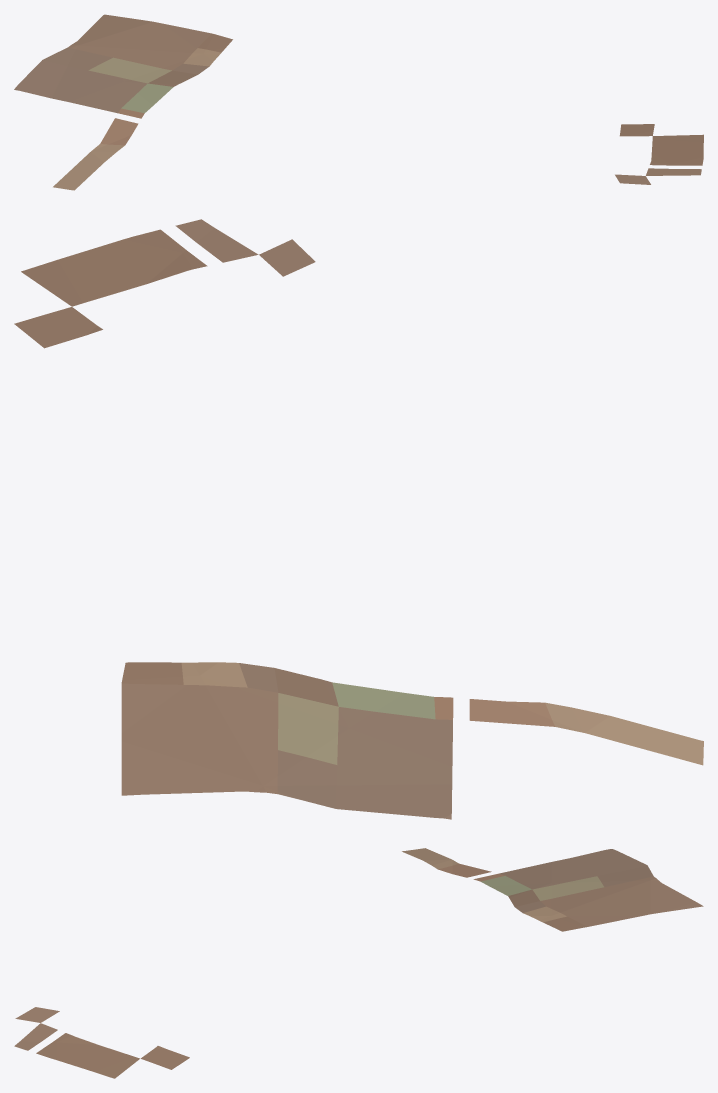
File: farm_9_0_soil.glb
The picture shows the model from 3 angles, top to bottom: view 1: azimuth 30°, elevation 25°; view 2: azimuth 150°, elevation 25°; view 3: azimuth 270°, elevation 25°; orthographic projection. The views are drawn at different scales.
Visible parts, largest first — view 1: geometry_0; view 2: geometry_0; view 3: geometry_0.
Boxes of the visible parts, x1,y1,x2,y2 form: geometry_0: (14,14,703,190); geometry_0: (14,219,703,819); geometry_0: (14,848,703,1078).
Size of the model in its own units: 511 by 40.13 by 557.
